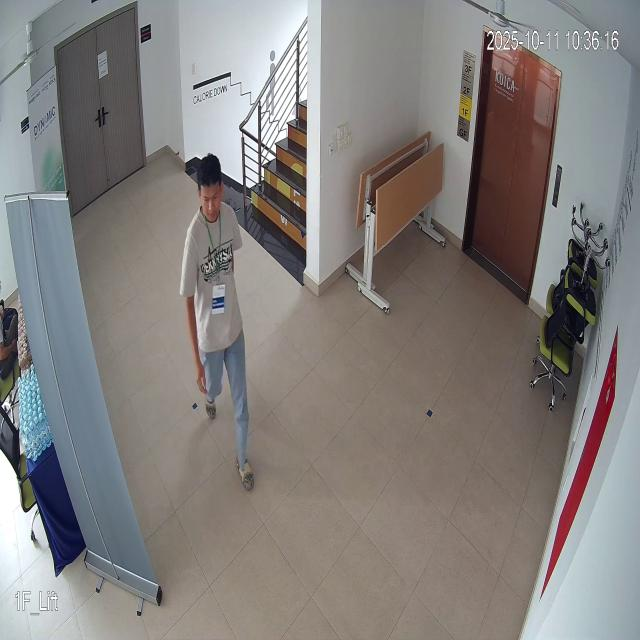face: (191, 149, 227, 230)
